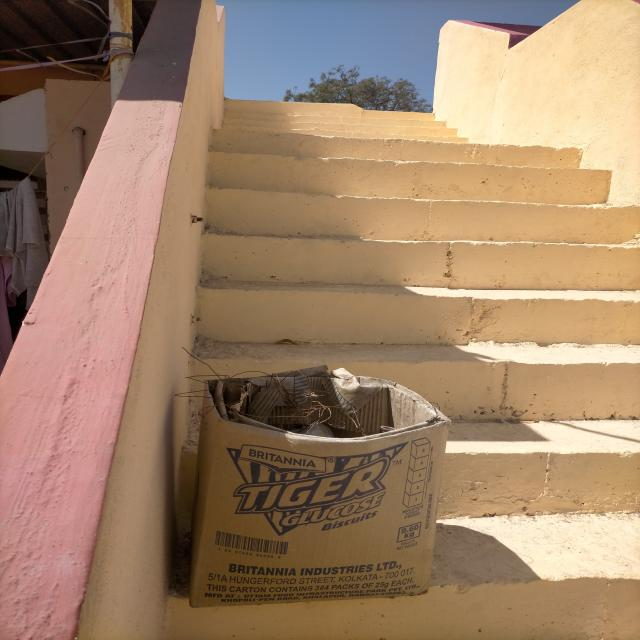Stairs: (171, 51, 640, 598)
